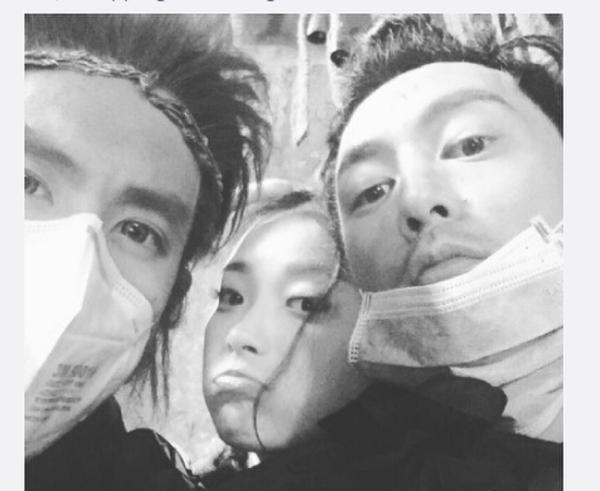NONE: (208, 239, 356, 451)
OK: (25, 122, 205, 465)
WRONG: (336, 119, 562, 345)
